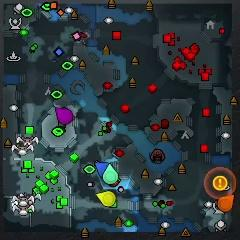Other: (213, 175, 227, 191)
p1: (95, 160, 109, 177)
p2: (103, 164, 119, 185)
p3: (54, 106, 73, 125)
p4: (96, 191, 117, 208)
p5: (218, 195, 235, 211)
